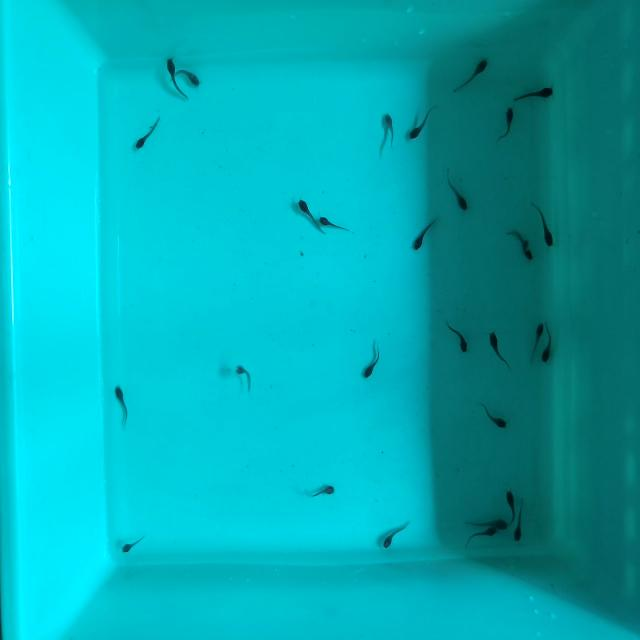lele: (528, 196, 558, 252), (162, 53, 192, 107), (506, 221, 538, 269), (451, 56, 491, 94), (294, 194, 328, 238), (407, 103, 442, 142), (441, 168, 470, 215), (485, 329, 514, 372), (410, 215, 439, 253), (134, 115, 163, 151), (445, 317, 471, 355), (480, 398, 509, 432), (318, 212, 353, 237), (379, 522, 409, 550), (361, 346, 385, 380), (538, 322, 556, 367), (114, 383, 132, 426), (513, 85, 554, 103), (528, 320, 544, 366), (175, 65, 204, 90), (497, 106, 517, 142), (463, 527, 498, 547), (511, 499, 526, 544), (235, 362, 256, 392), (463, 517, 508, 530), (121, 533, 148, 554), (384, 111, 399, 148), (505, 486, 515, 527), (311, 485, 336, 498)
